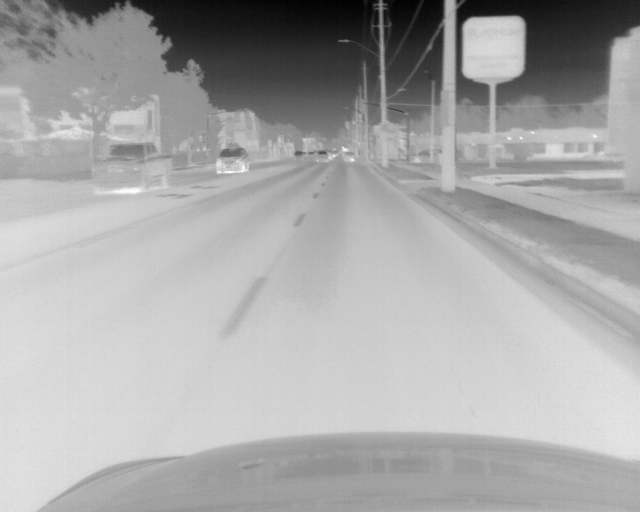car: (93, 142, 173, 196), (214, 148, 252, 174), (315, 150, 331, 163), (343, 150, 355, 163), (294, 149, 305, 160), (330, 148, 339, 158)
